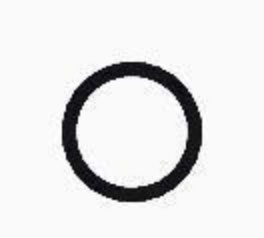RadioButton: (1, 1, 263, 237)
